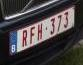3: (49, 17, 56, 35), (63, 10, 69, 28)
7: (57, 14, 62, 32)
F: (29, 25, 36, 45)
H: (37, 23, 43, 40)
R: (21, 29, 28, 47)
